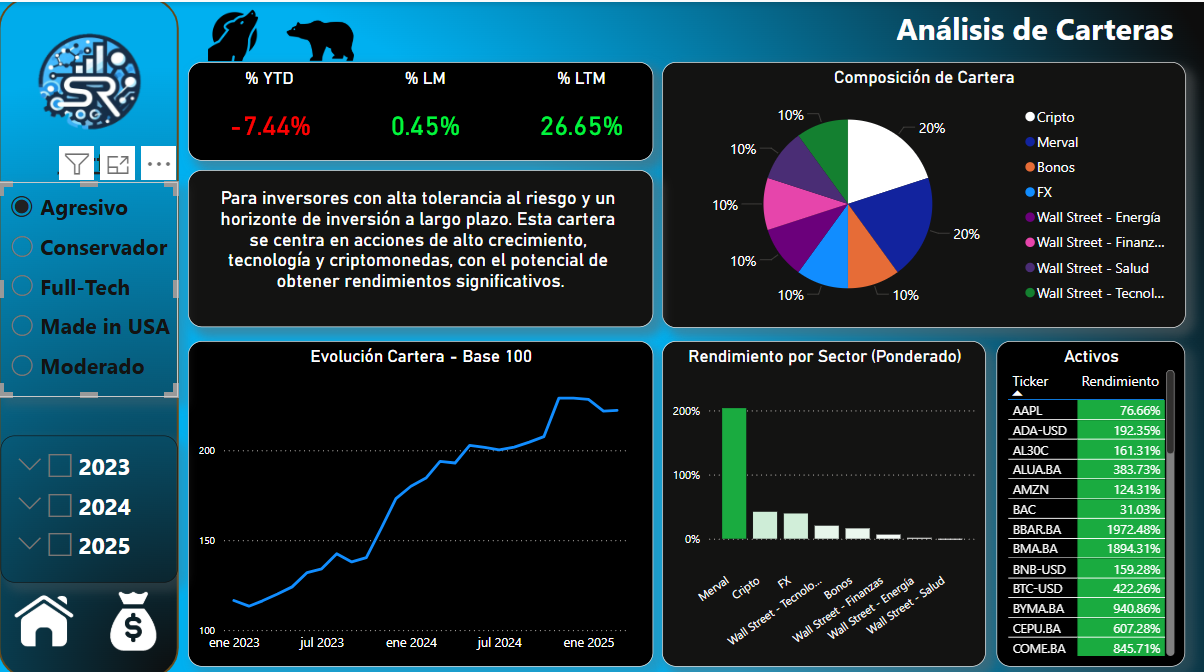

What the dashboard file says about the page in this screenshot:
{"tool":"powerbi","page":{"name":"Análisis de Carteras","canvas":[1280,720],"ordinal":1},"visuals":[{"type":"shape","box":[200,63.6,493,105],"z":0},{"type":"lineChart","title":"Evolución Cartera - Base 100","fields":{"Series":["carteras_desc.Cartera"],"Y":["Medidas.Rendimiento Total Cartera","select1"],"Category":["Calendario.Date.Variación.Jerarquía de fechas.Año","Calendario.Date.Variación.Jerarquía de fechas.Trimestre","Calendario.Date.Variación.Jerarquía de fechas.Mes"]},"box":[200,360,493.3,345],"z":1000},{"type":"pieChart","title":"Composición de Cartera","fields":{"Category":["carteras_comp.Tipo_activo"],"Y":["Sum(carteras_comp.Porcentaje)"]},"box":[703.3,63.3,555,281.7],"z":2000},{"type":"clusteredColumnChart","title":"Rendimiento por Sector (Ponderado)","fields":{"Category":["carteras_comp.Tipo_activo"],"Y":["Medidas.Rendimiento Ponderado"]},"box":[703.3,360,343.3,345],"z":3000},{"type":"tableEx","title":"Activos","fields":{"Values":["datos_historicos.Ticker","Medidas.Rendimiento"]},"box":[1058.3,360,200,345],"z":4000},{"type":"card","title":"% LTM","fields":{"Values":["Medidas.Rendimiento Total Cartera"]},"box":[542.4,70,150,98.6],"z":5000},{"type":"card","title":"% YTD","fields":{"Values":["Medidas.Rendimiento Total Cartera"]},"box":[211.6,70,150,98.6],"z":6000},{"type":"card","title":"% LM","fields":{"Values":["Medidas.Rendimiento Total Cartera"]},"box":[377,70,150,98.6],"z":7000},{"type":"card","fields":{"Values":["Min(carteras_desc.Descripcion)"]},"box":[200,178.3,493.3,166.7],"z":8000},{"type":"image","box":[216.7,0,66.7,68],"z":9000},{"type":"slicer","fields":{"Values":["Calendario.Date.Variación.Jerarquía de fechas.Año","Calendario.Date.Variación.Jerarquía de fechas.Trimestre","Calendario.Date.Variación.Jerarquía de fechas.Mes","Calendario.Date.Variación.Jerarquía de fechas.Día"]},"box":[1.6,459.7,187.7,155.9],"z":10000},{"type":"image","box":[250,0,181.7,81.7],"z":11000},{"type":"image","box":[0,615,95,81.7],"z":12000},{"type":"image","box":[95,615,93.3,81.7],"z":13000},{"type":"textbox","box":[1.6,144.7,187.7,46.1],"z":14000},{"type":"slicer","fields":{"Values":["carteras_desc.Cartera"]},"box":[0,190.9,189.3,227.5],"z":15000},{"type":"textbox","box":[946.7,0,333.3,63.3],"z":16000}]}

Visuals, with their boxes in screenshot pixels (x1, y1, x2, y2), scaled from the page's 1280x720 canvas onto the 1204x672 screenshot:
shape: Rect(188, 59, 652, 157)
"Evolución Cartera - Base 100" lineChart: Rect(188, 336, 652, 658)
"Composición de Cartera" pieChart: Rect(662, 59, 1184, 322)
"Rendimiento por Sector (Ponderado)" clusteredColumnChart: Rect(662, 336, 984, 658)
"Activos" tableEx: Rect(995, 336, 1184, 658)
"% LTM" card: Rect(510, 65, 651, 157)
"% YTD" card: Rect(199, 65, 340, 157)
"% LM" card: Rect(355, 65, 496, 157)
card - Min(carteras_desc.Descripcion): Rect(188, 166, 652, 322)
image: Rect(204, 0, 267, 63)
slicer - Calendario.Date.Variación.Jerarquía de fechas.Año x Calendario.Date.Variación.Jerarquía de fechas.Trimestre: Rect(2, 429, 178, 575)
image: Rect(235, 0, 406, 76)
image: Rect(0, 574, 89, 650)
image: Rect(89, 574, 177, 650)
textbox: Rect(2, 135, 178, 178)
slicer - carteras_desc.Cartera: Rect(0, 178, 178, 391)
textbox: Rect(890, 0, 1203, 59)
